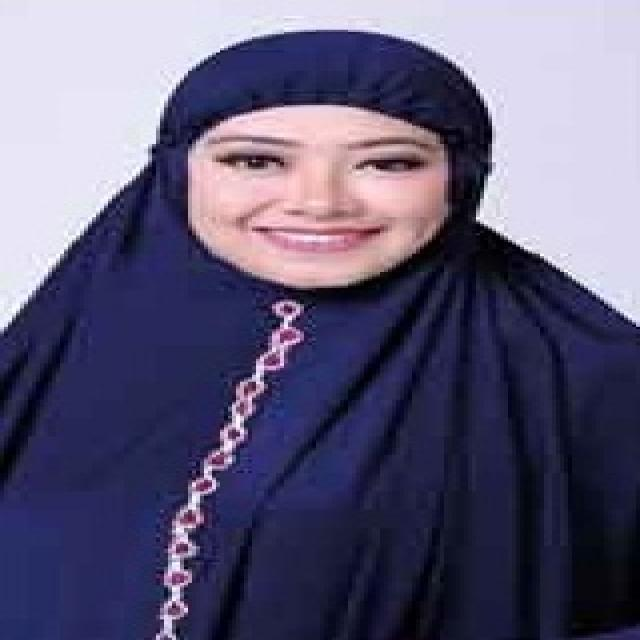head: (155, 30, 499, 294)
